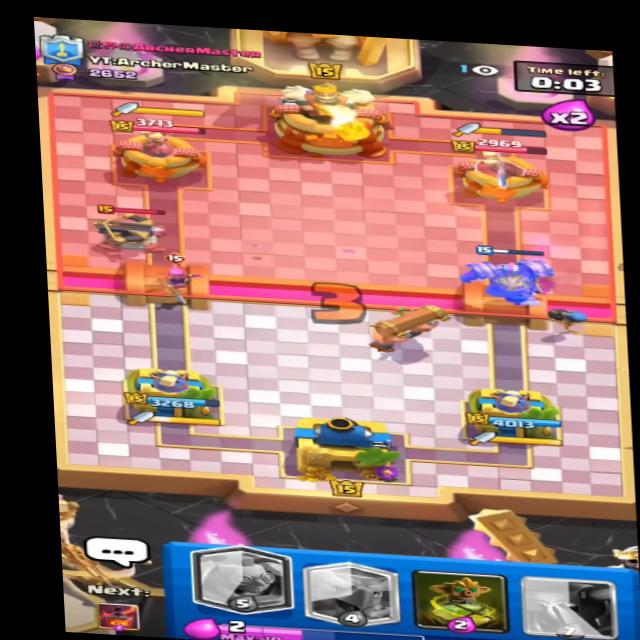evo-archers: (159, 253, 210, 291)
x-bow: (86, 198, 182, 260)
